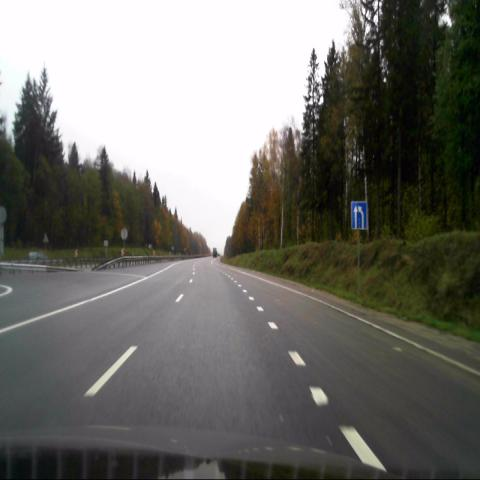5_15_5: (351, 202, 367, 229)
